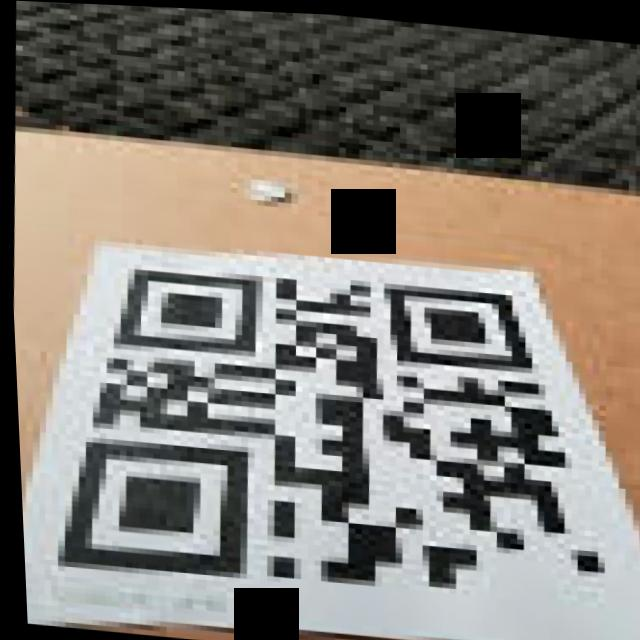QR_CODE: (27, 235, 640, 640)
